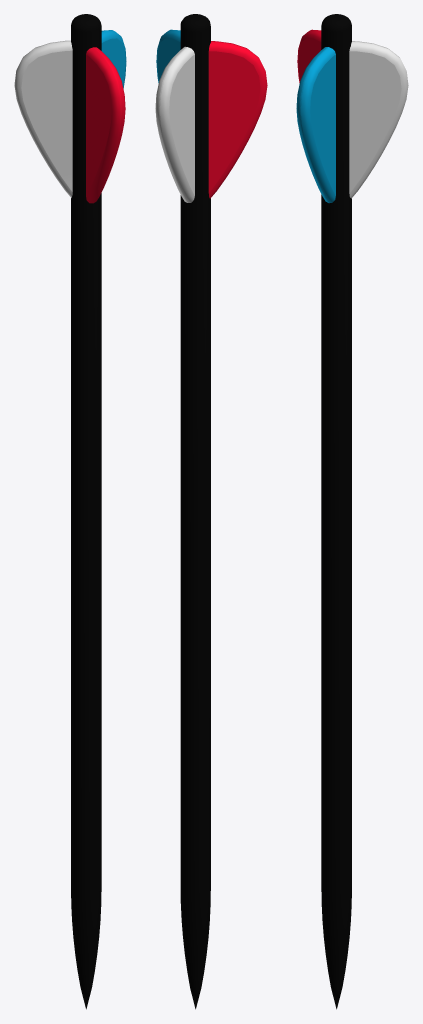
Rendered from Fleche.glb.
3 views of the same model, side by side, from view 1: azimuth 90°, elevation 25°; view 2: azimuth 150°, elevation 25°; view 3: azimuth 270°, elevation 25° (orthographic).
Parts seen in each view (by area): view 1: Cylinder, Extrude 0, Extrude 2, Extrude 1; view 2: Cylinder, Extrude 2, Extrude 0, Extrude 1; view 3: Cylinder, Extrude 0, Extrude 1, Extrude 2.
Part boxes in pixels (x1,y1,x2,y2): Cylinder: (71,14,101,1009); Extrude 0: (14,40,72,197); Extrude 2: (86,47,125,203); Extrude 1: (101,30,126,88); Cylinder: (180,14,210,1009); Extrude 2: (208,41,267,198); Extrude 0: (155,46,194,202); Extrude 1: (156,29,180,82); Cylinder: (321,14,351,1009); Extrude 0: (349,41,408,198); Extrude 1: (296,47,335,203); Extrude 2: (297,29,321,82).
Size of the model in its own units: 0.4573 by 3.95 by 0.4043.
